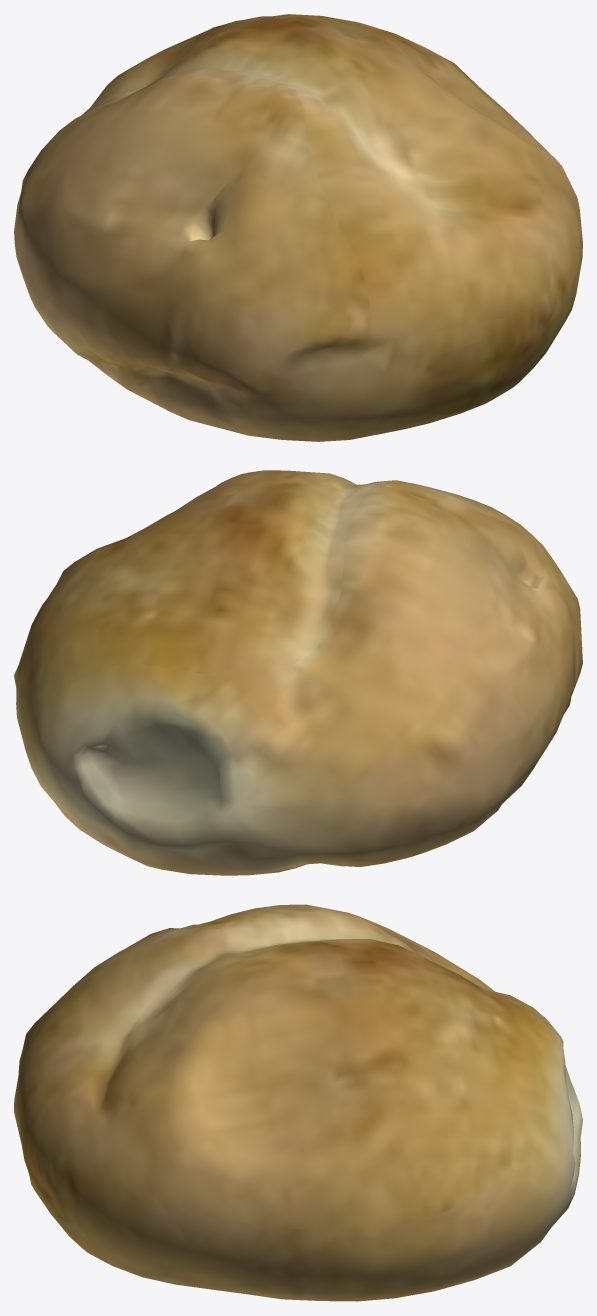
The model's file is bread.glb.
3 renders of one model, top to bottom at view 1: azimuth 30°, elevation 25°; view 2: azimuth 150°, elevation 25°; view 3: azimuth 270°, elevation 25°, orthographic. The views are drawn at different scales.
Visible parts, largest first — view 1: hamburger_buns_01; view 2: hamburger_buns_01; view 3: hamburger_buns_01.
Boxes of the visible parts, <box> form: hamburger_buns_01: <box>14,14,582,441</box>; hamburger_buns_01: <box>14,470,582,875</box>; hamburger_buns_01: <box>14,904,582,1301</box>.
Size of the model in its own units: 0.1042 by 0.0633 by 0.1138.
Materials: 1 (1 with a texture image).
